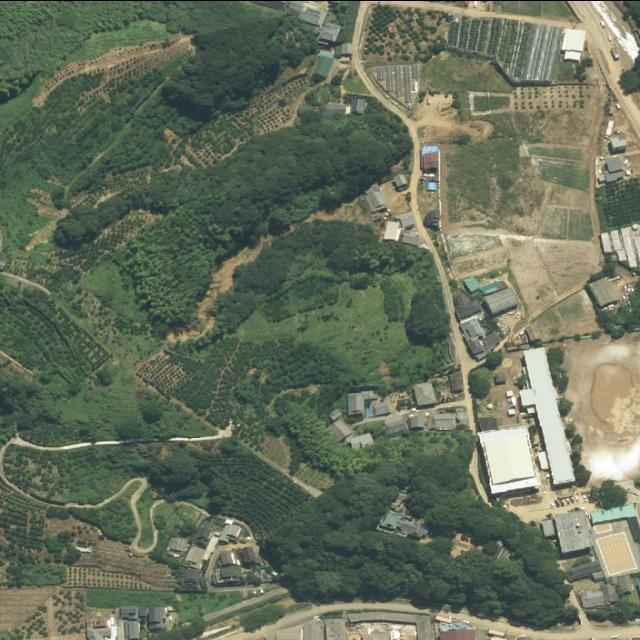landslide: (165, 235, 272, 341)
